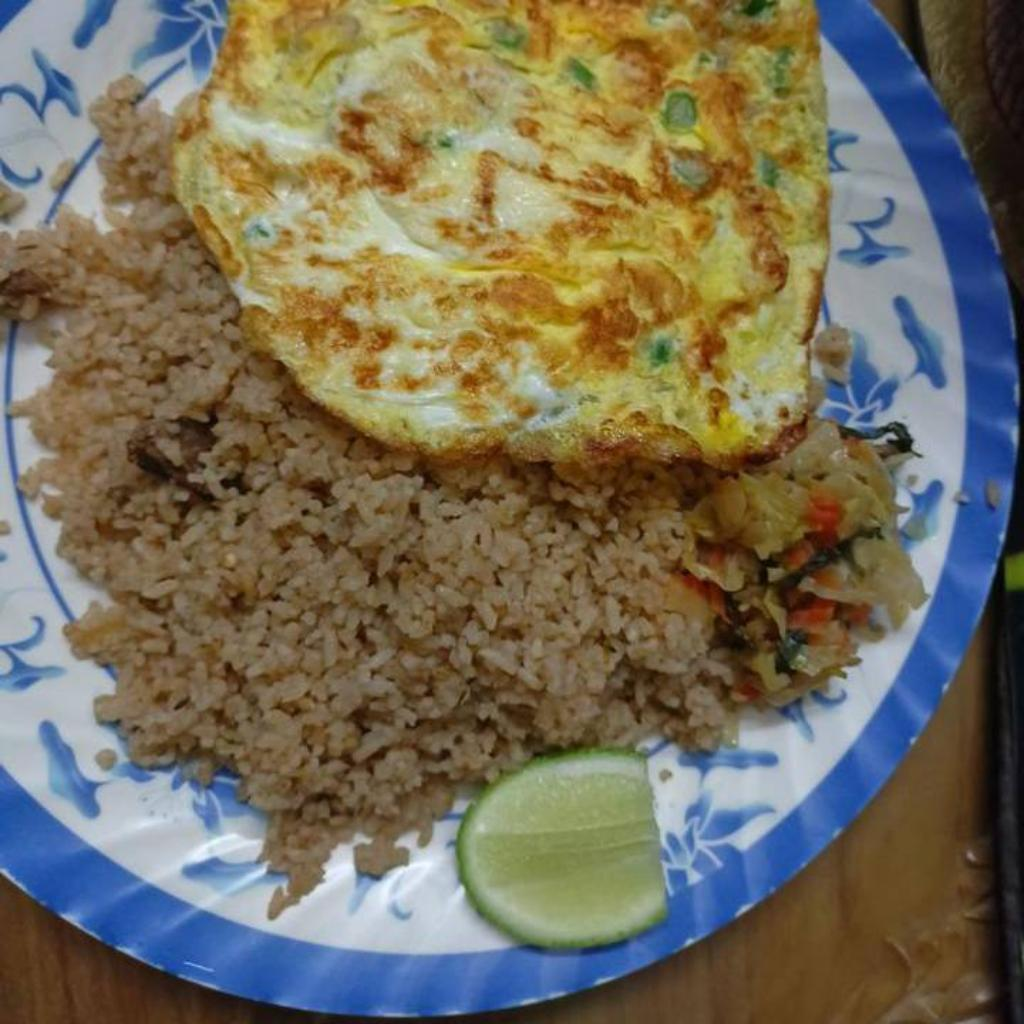biriyani: (0, 80, 751, 905)
egg-poached: (175, 0, 828, 464)
lemon: (457, 750, 666, 949)
vegetable: (681, 421, 924, 694)
